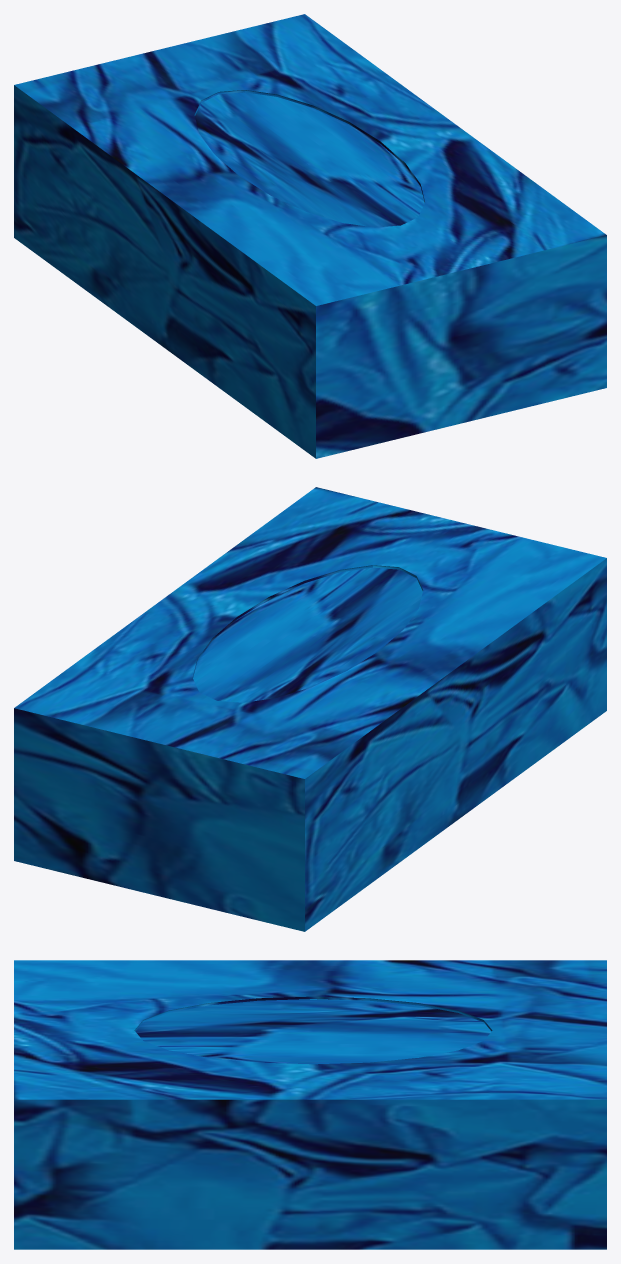
File: Einweghandschuhe.fbx
The picture shows the model from 3 angles, top to bottom: view 1: azimuth 30°, elevation 25°; view 2: azimuth 150°, elevation 25°; view 3: azimuth 270°, elevation 25°; orthographic projection.
Visible parts, largest first — view 1: polySurface2, pCube1; view 2: polySurface2, pCube1; view 3: polySurface2, pCube1.
Part boxes in pixels (bbox=[...]): polySurface2: bbox=[14, 14, 606, 458]; pCube1: bbox=[195, 92, 424, 227]; polySurface2: bbox=[14, 487, 606, 931]; pCube1: bbox=[193, 567, 422, 702]; polySurface2: bbox=[14, 960, 606, 1249]; pCube1: bbox=[135, 999, 491, 1064].
Bounding box in the file's own units: 4.15 × 2.08 × 7.46.
